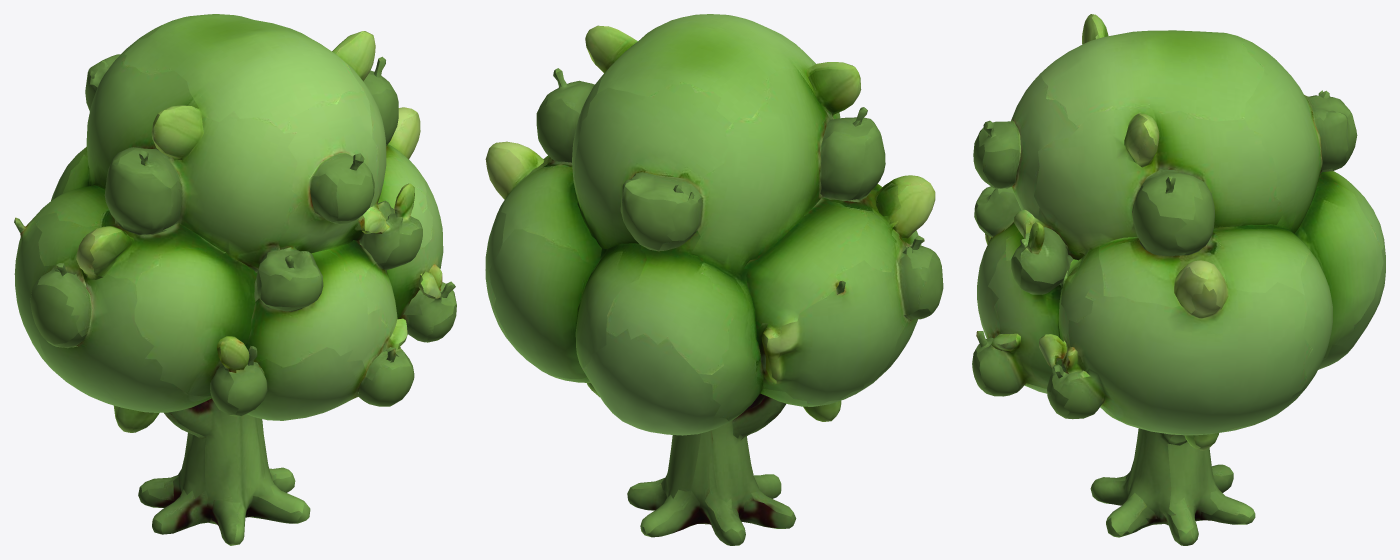
Rendered from fruit_tree_apple_bare.glb.
3 views of the same model, side by side, from view 1: azimuth 30°, elevation 25°; view 2: azimuth 150°, elevation 25°; view 3: azimuth 270°, elevation 25° (orthographic).
Visible parts, largest first — view 1: fruit_tree_apple_s71; view 2: fruit_tree_apple_s71; view 3: fruit_tree_apple_s71.
Boxes of the visible parts, <box> form: fruit_tree_apple_s71: <box>14,14,456,545</box>; fruit_tree_apple_s71: <box>485,14,943,545</box>; fruit_tree_apple_s71: <box>972,14,1385,545</box>.
Bounding box in the file's own units: 0.909 × 1 × 0.7871.
1 material, 1 textured.
